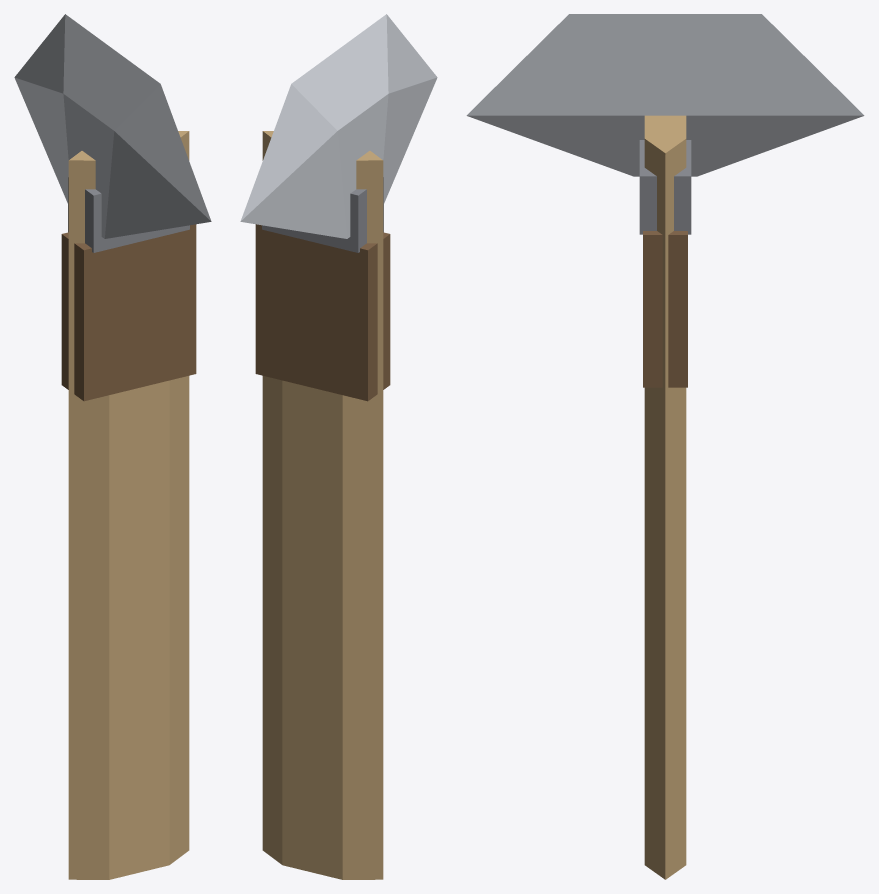
The model's file is Axe.fbx.
3 views of the same model, side by side, from view 1: azimuth 30°, elevation 25°; view 2: azimuth 150°, elevation 25°; view 3: azimuth 270°, elevation 25° (orthographic).
Visible parts, largest first — view 1: Axe_Handle, Axe_Blade, Axe_Grip, Axe_Ferrule; view 2: Axe_Handle, Axe_Blade, Axe_Grip, Axe_Ferrule; view 3: Axe_Blade, Axe_Handle, Axe_Grip, Axe_Ferrule.
Boxes of the visible parts, box(x1,y1,x2,y2) form: Axe_Handle: box(68, 131, 189, 879); Axe_Blade: box(14, 14, 211, 238); Axe_Grip: box(61, 224, 196, 401); Axe_Ferrule: box(68, 177, 189, 252); Axe_Handle: box(262, 131, 383, 879); Axe_Blade: box(240, 14, 437, 238); Axe_Grip: box(255, 224, 390, 401); Axe_Ferrule: box(262, 177, 383, 252); Axe_Blade: box(466, 14, 864, 176); Axe_Handle: box(644, 115, 686, 879); Axe_Grip: box(643, 231, 687, 387); Axe_Ferrule: box(639, 140, 691, 234).
Bounding box in the file's own units: 12 × 78 × 34.
